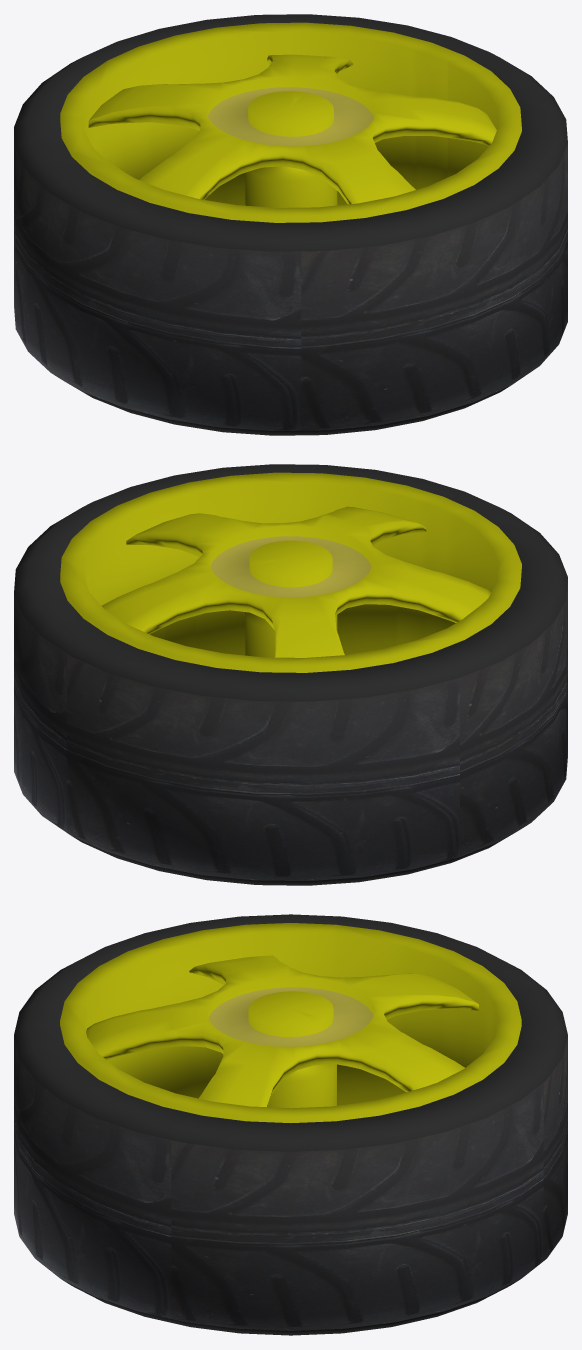
File: wheel.dae
The picture shows the model from 3 angles, top to bottom: view 1: azimuth 30°, elevation 25°; view 2: azimuth 150°, elevation 25°; view 3: azimuth 270°, elevation 25°; orthographic projection.
Parts seen in each view (by area): view 1: Cylinder, Cylinder_001, Sphere_001, Cylinder_002; view 2: Cylinder, Cylinder_001, Sphere_001, Cylinder_002; view 3: Cylinder, Cylinder_001, Sphere_001, Cylinder_002.
Boxes of the visible parts, bbox=[...] form: Cylinder: bbox=[14, 14, 567, 435]; Cylinder_001: bbox=[60, 22, 521, 222]; Sphere_001: bbox=[88, 54, 496, 204]; Cylinder_002: bbox=[245, 166, 337, 207]; Cylinder: bbox=[14, 464, 567, 885]; Cylinder_001: bbox=[60, 472, 521, 672]; Sphere_001: bbox=[101, 506, 491, 657]; Cylinder_002: bbox=[245, 612, 337, 657]; Cylinder: bbox=[14, 914, 567, 1335]; Cylinder_001: bbox=[60, 923, 521, 1122]; Sphere_001: bbox=[86, 955, 478, 1107]; Cylinder_002: bbox=[268, 1064, 336, 1108].
Size of the model in its own units: 0.6 by 0.6 by 0.3146.
6 materials, 1 textured.
